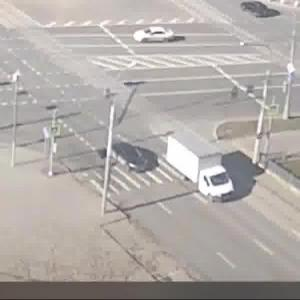car: (166, 131, 240, 206), (102, 141, 151, 178), (136, 24, 178, 49), (236, 1, 275, 20)
